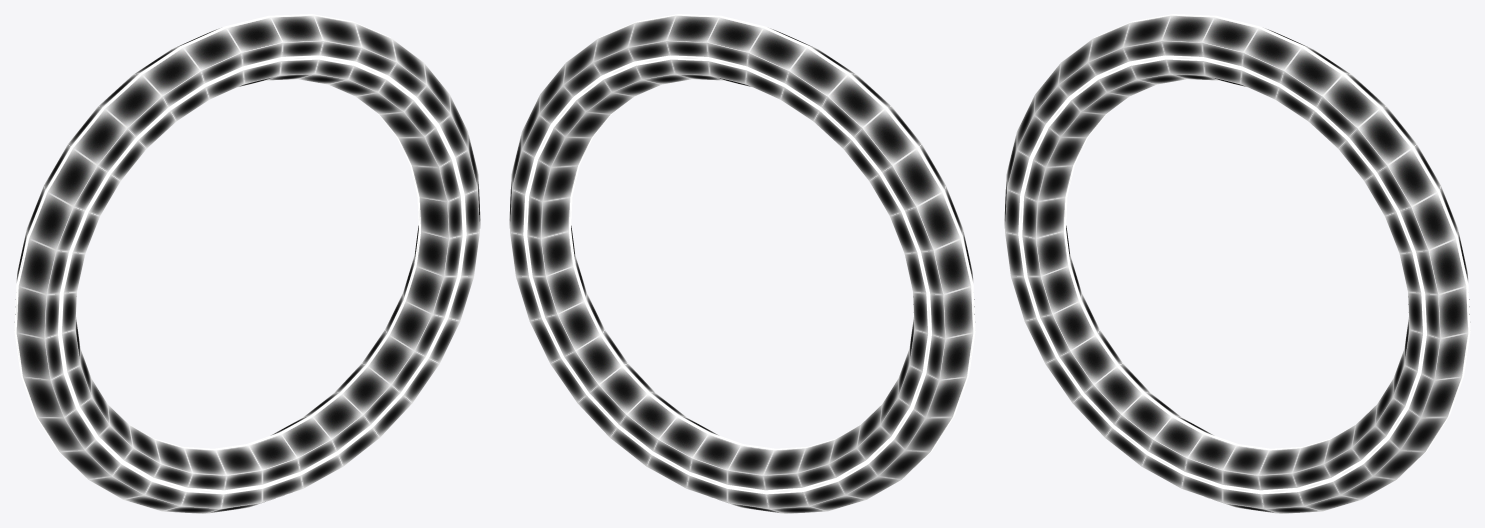
File: brouche.gltf
The picture shows the model from 3 angles, left to right: view 1: azimuth 30°, elevation 25°; view 2: azimuth 150°, elevation 25°; view 3: azimuth 330°, elevation 25°; orthographic projection.
Visible parts, largest first — view 1: torus; view 2: torus; view 3: torus.
Part boxes in pixels (x1,y1,x2,y2): torus: [14, 14, 480, 513]; torus: [509, 14, 975, 513]; torus: [1004, 14, 1470, 513].
Bounding box in the file's own units: 462 × 461 × 51.
Materials: 2 (2 with a texture image).
